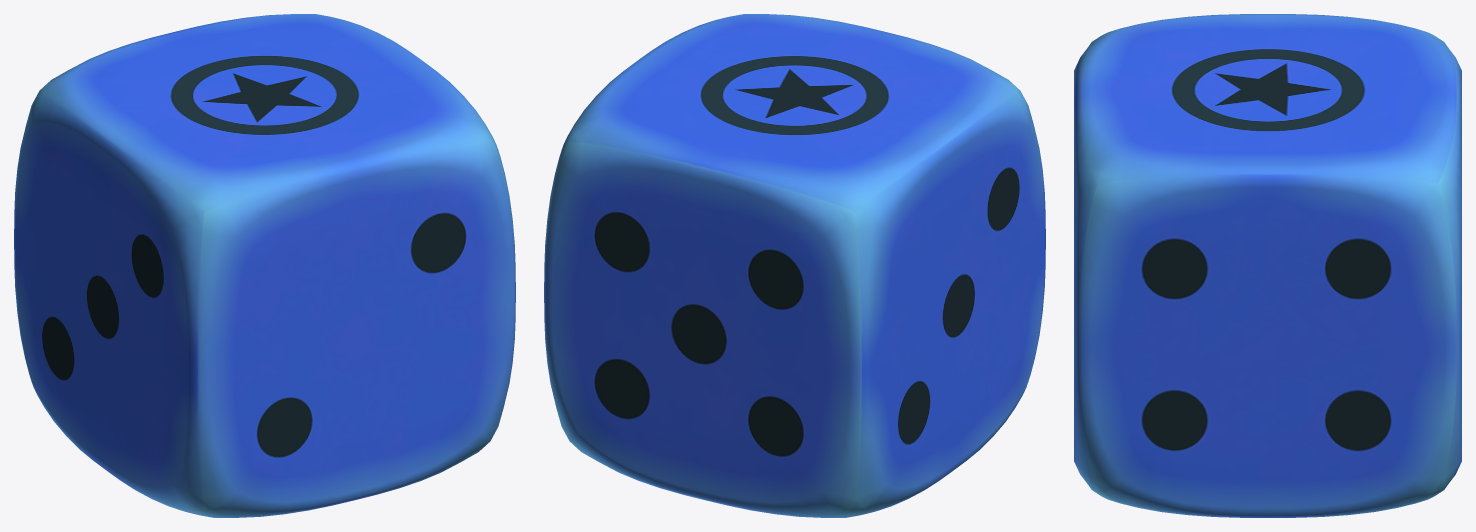
Rendered from dice.glb.
3 views of the same model, side by side, from view 1: azimuth 30°, elevation 25°; view 2: azimuth 150°, elevation 25°; view 3: azimuth 270°, elevation 25° (orthographic). The views are drawn at different scales.
Visible parts, largest first — view 1: Dice; view 2: Dice; view 3: Dice.
Boxes of the visible parts, <box> form: Dice: <box>14,14,515,517</box>; Dice: <box>544,14,1045,517</box>; Dice: <box>1074,14,1461,517</box>.
Bounding box in the file's own units: 2 × 2 × 2.
Materials: 1 (1 with a texture image).
